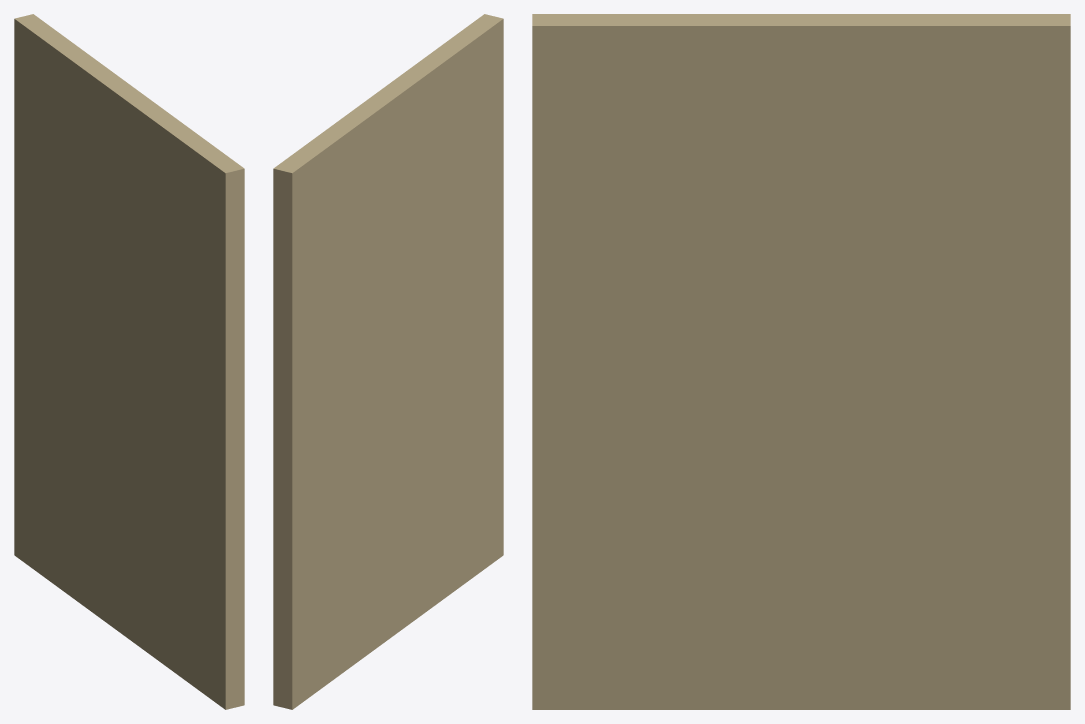
3 renders of one model, left to right at view 1: azimuth 30°, elevation 25°; view 2: azimuth 150°, elevation 25°; view 3: azimuth 270°, elevation 25°, orthographic. The views are drawn at different scales.
Parts seen in each view (by area): view 1: GF-W099; view 2: GF-W099; view 3: GF-W099.
Boxes of the visible parts, <box> form: GF-W099: <box>14,14,244,709</box>; GF-W099: <box>273,14,503,709</box>; GF-W099: <box>532,14,1070,709</box>.
Bounding box in the file's own units: 0.09 × 2.42 × 1.73.
